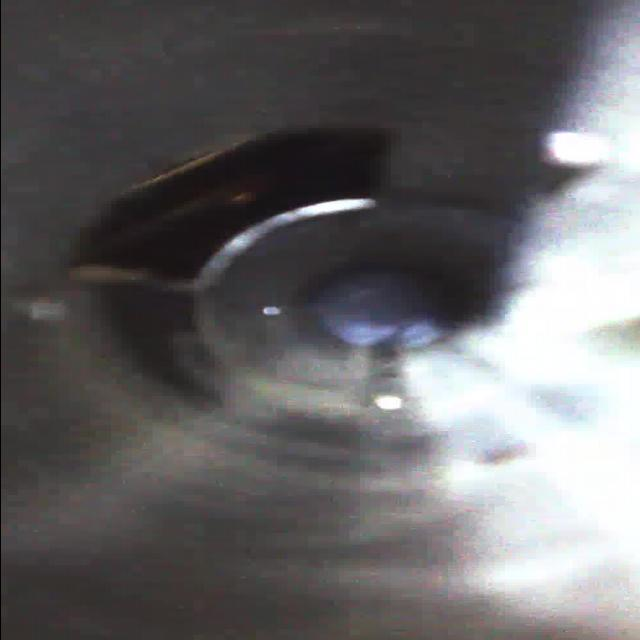hole: (42, 123, 407, 308)
